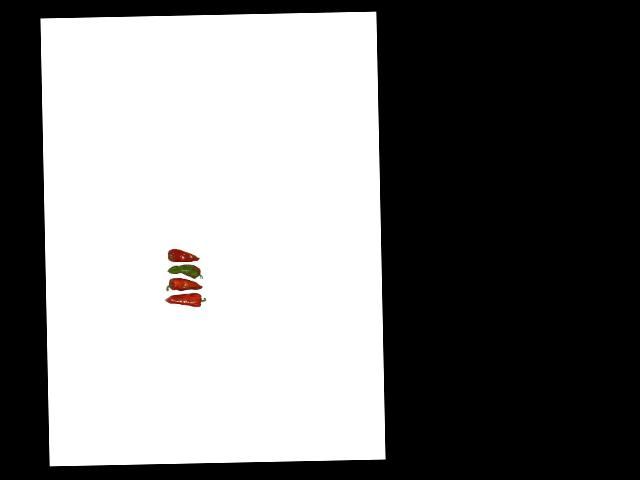bell_pepper: (166, 244, 202, 263)
